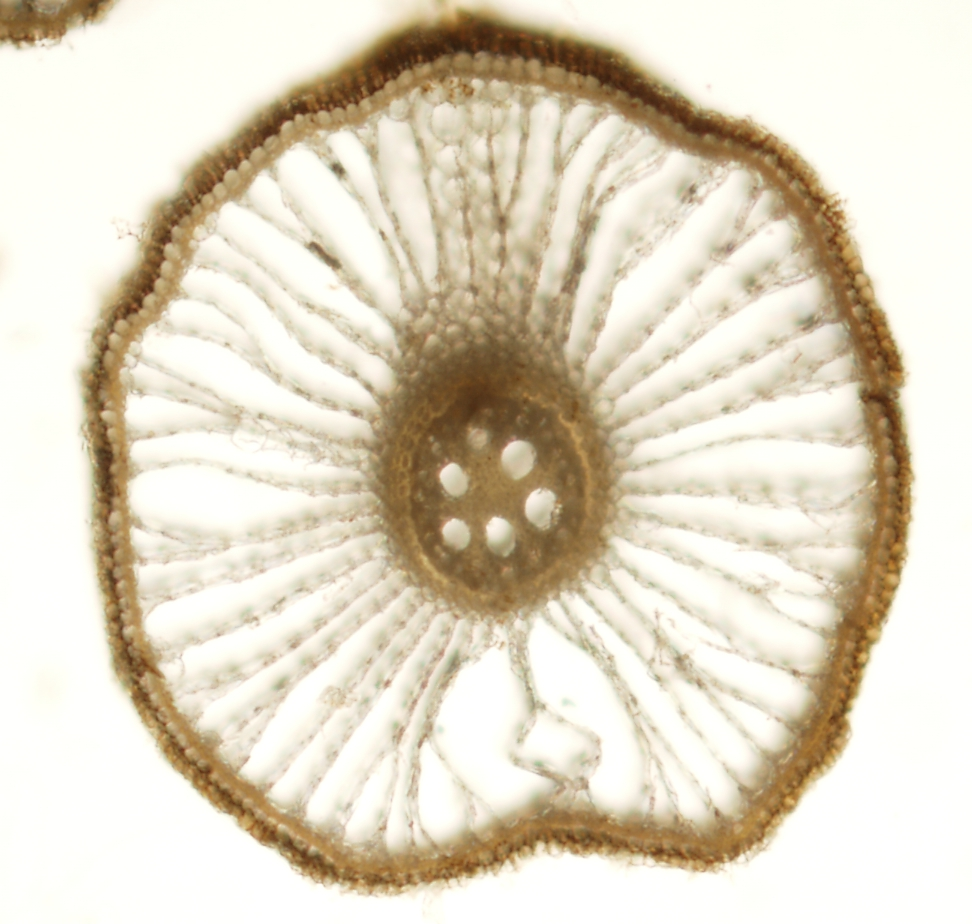lm: (524, 487, 562, 530), (500, 440, 536, 482), (485, 516, 515, 557), (439, 462, 468, 498), (441, 518, 469, 551), (464, 426, 489, 451)
